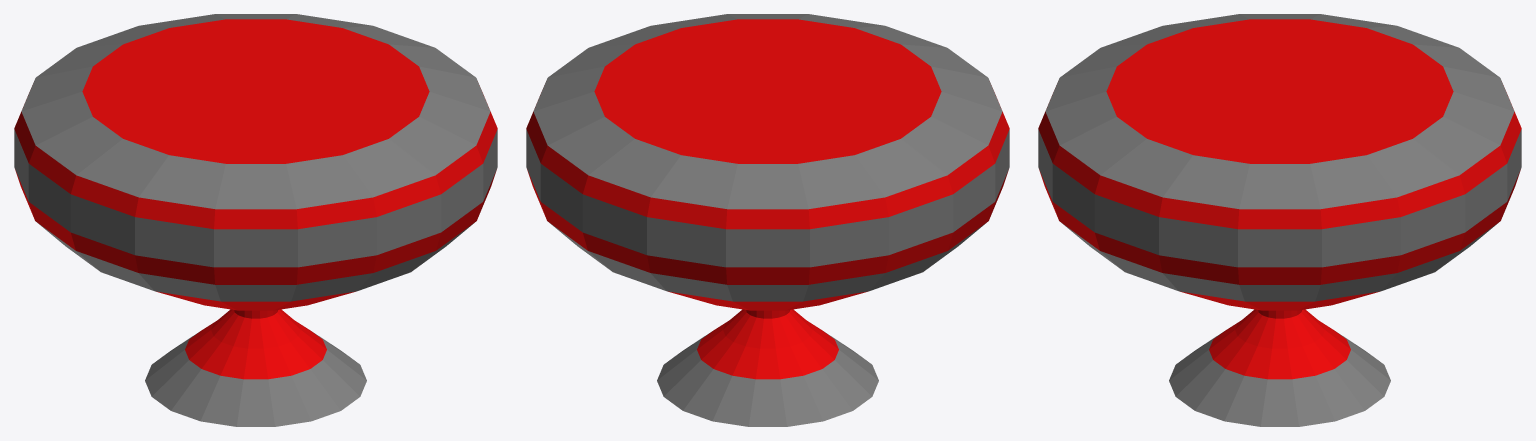
The model's file is SM_Emergency_Button.fbx.
3 views of the same model, side by side, from view 1: azimuth 30°, elevation 25°; view 2: azimuth 150°, elevation 25°; view 3: azimuth 270°, elevation 25° (orthographic).
Visible parts, largest first — view 1: Emergency_Button; view 2: Emergency_Button; view 3: Emergency_Button.
Part boxes in pixels (x1,y1,x2,y2): Emergency_Button: [14, 14, 497, 426]; Emergency_Button: [526, 14, 1009, 426]; Emergency_Button: [1038, 14, 1521, 426].
Size of the model in its own units: 36.5 by 24.45 by 37.06.
